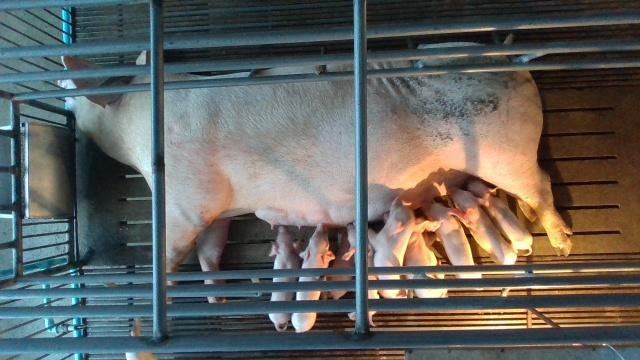piglet: (448, 187, 517, 265), (465, 180, 533, 256), (291, 223, 335, 332), (423, 199, 482, 279), (369, 198, 415, 298), (270, 225, 301, 330)
sow-sleep-lactate: (59, 43, 573, 303)
